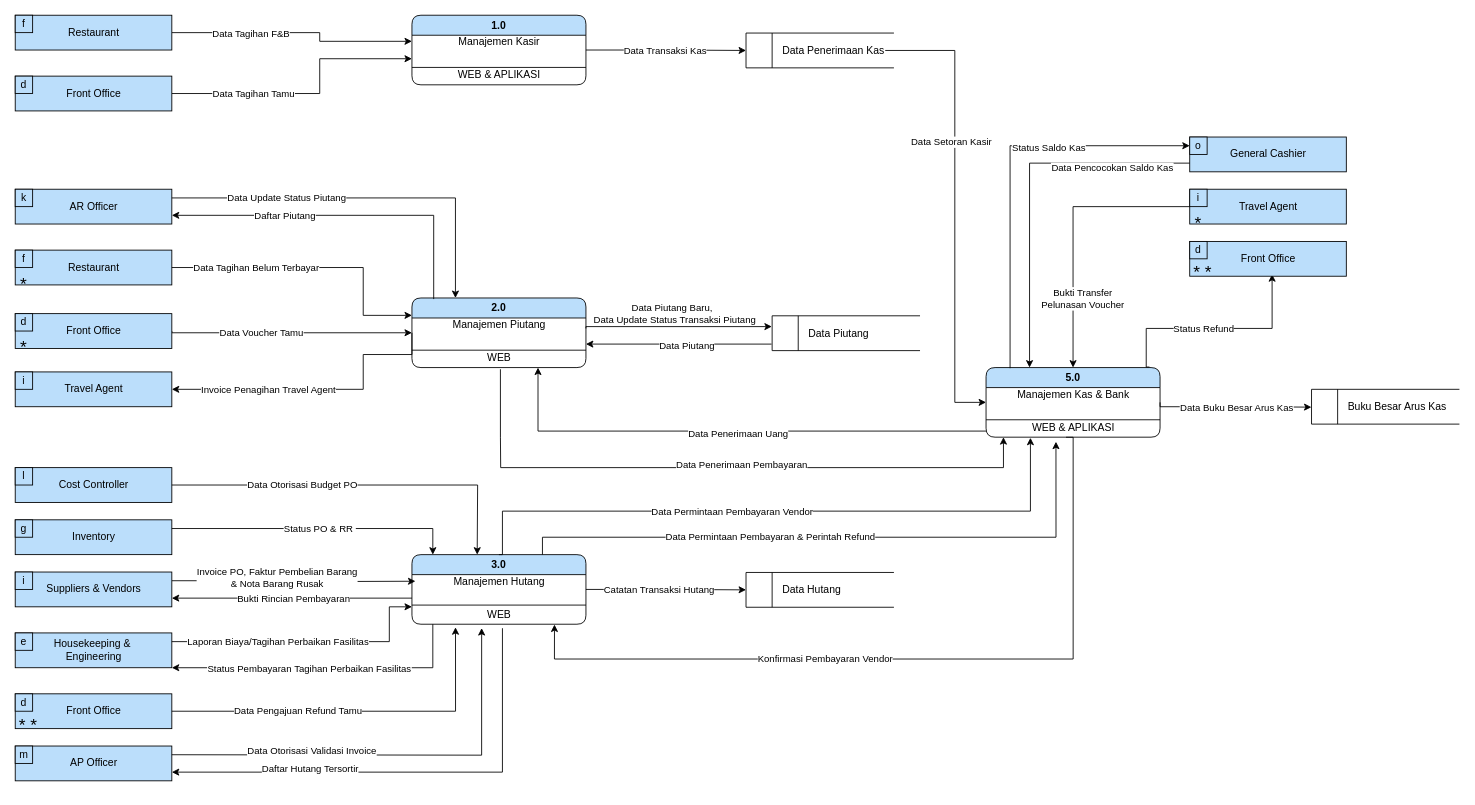
Image size: 1475x805. Some labels were removed from this diagram. Each missing label, with the box of its shape:
D2: (745, 572, 894, 607)
D3: (771, 315, 920, 351)
D4: (1311, 388, 1459, 424)
D5: (745, 32, 894, 68)
